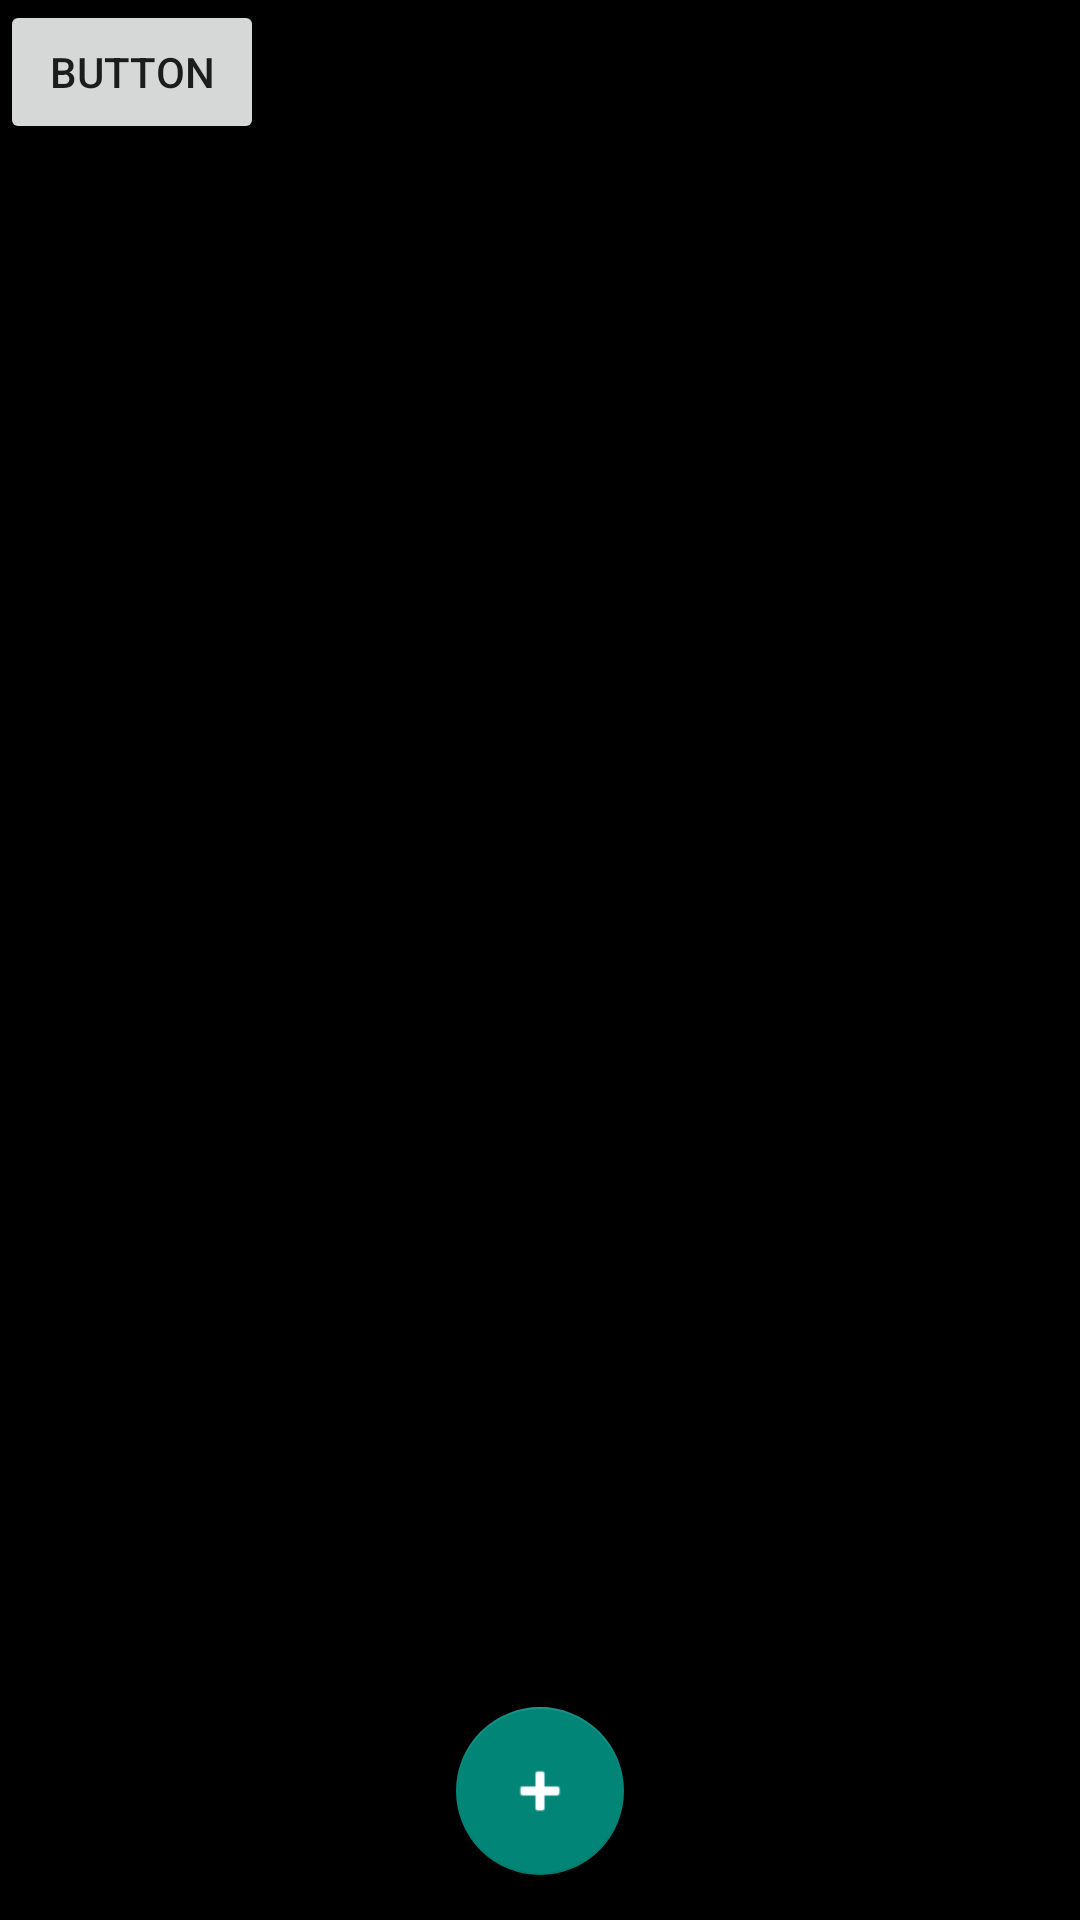

Where icons sit on this 1080 x 1920 app screen, as (x1, y1, x2, y2):
add: (456, 1707, 624, 1875)
